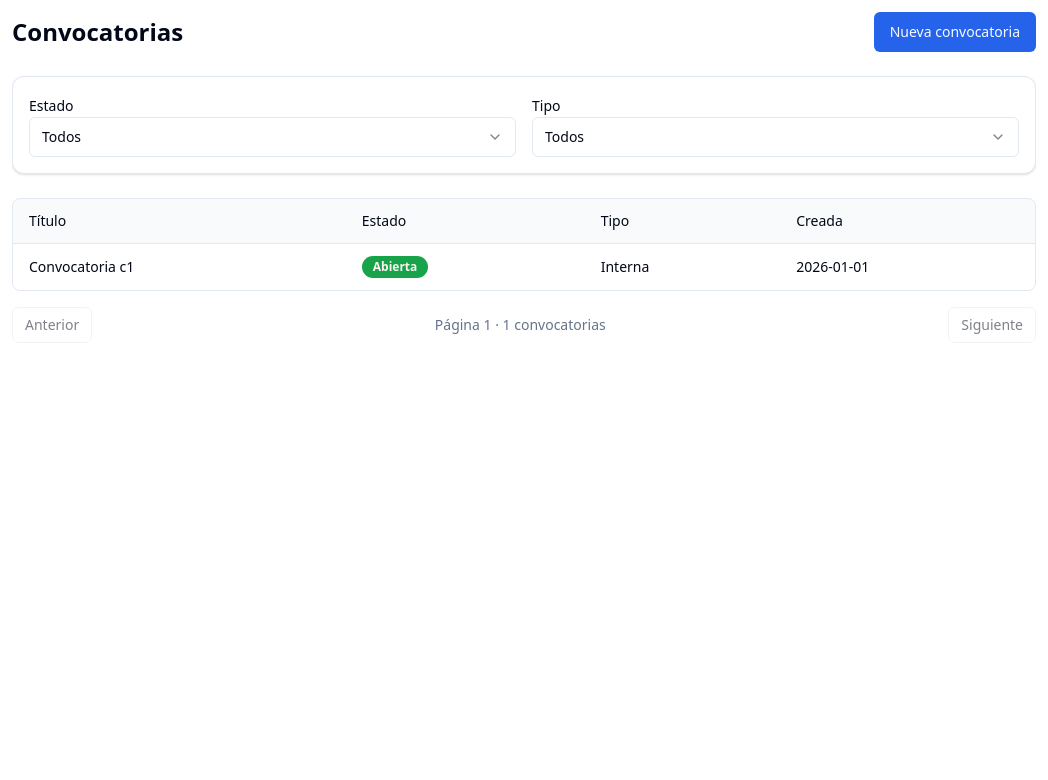
Test: CallList — filter refetch wiring › combines status and call_type filters in a single refetch
Check: the link "Convocatoria c1" is shown, box [29, 257, 134, 276]
What coordinates should you click on to do the following:
click the dropdown named "estado"
I would click on:
 (62, 136)
Its box is [29, 117, 516, 157].
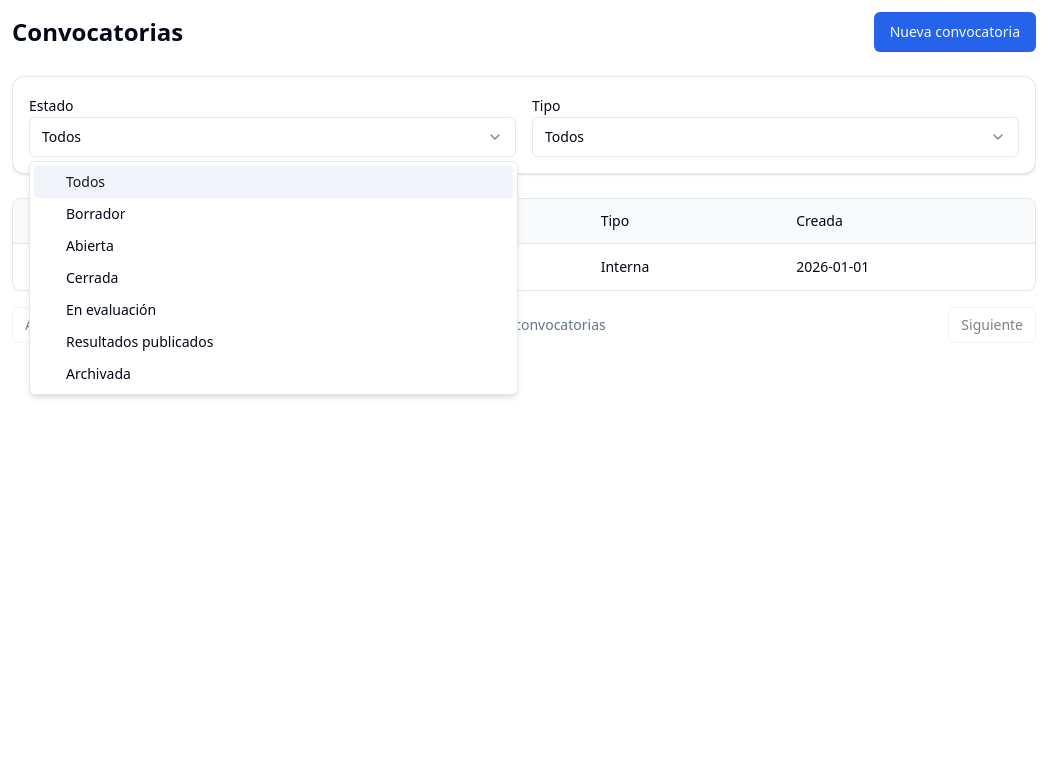
What coordinates should you click on to do the following:
click the option "Abierta"
I would click on:
 (90, 246)
Its box is [66, 236, 114, 255].
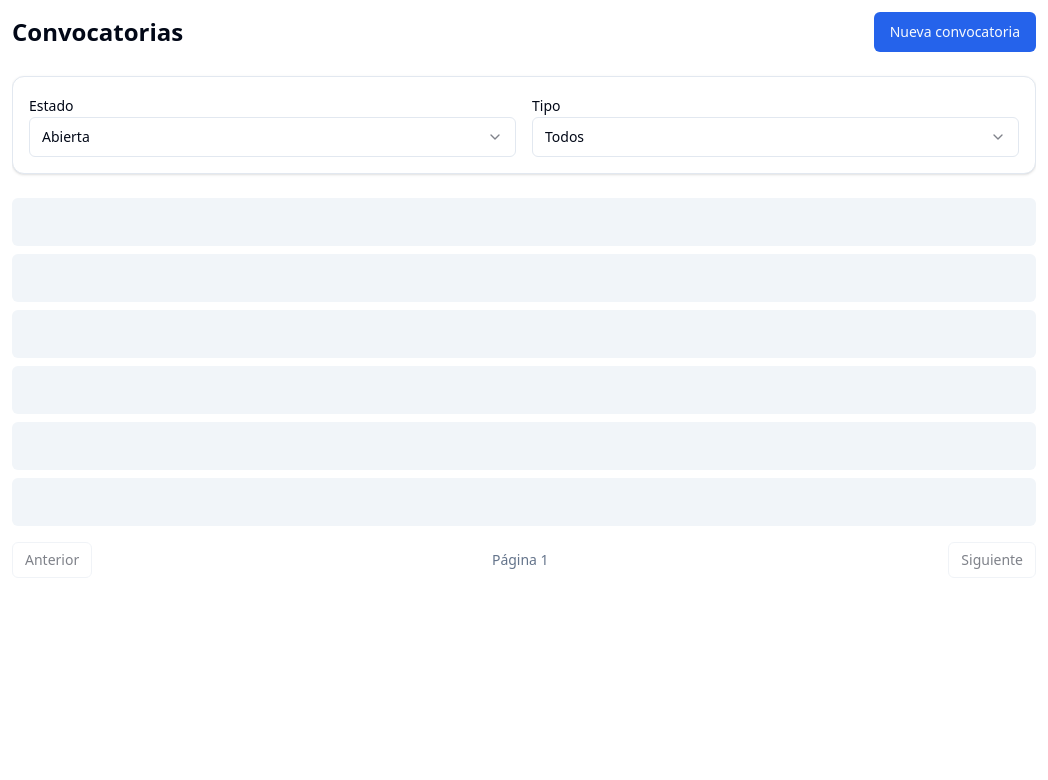
What coordinates should you click on to do the following:
click the dropdown named "tipo"
I would click on:
 (565, 136)
Its box is [532, 117, 1019, 157].
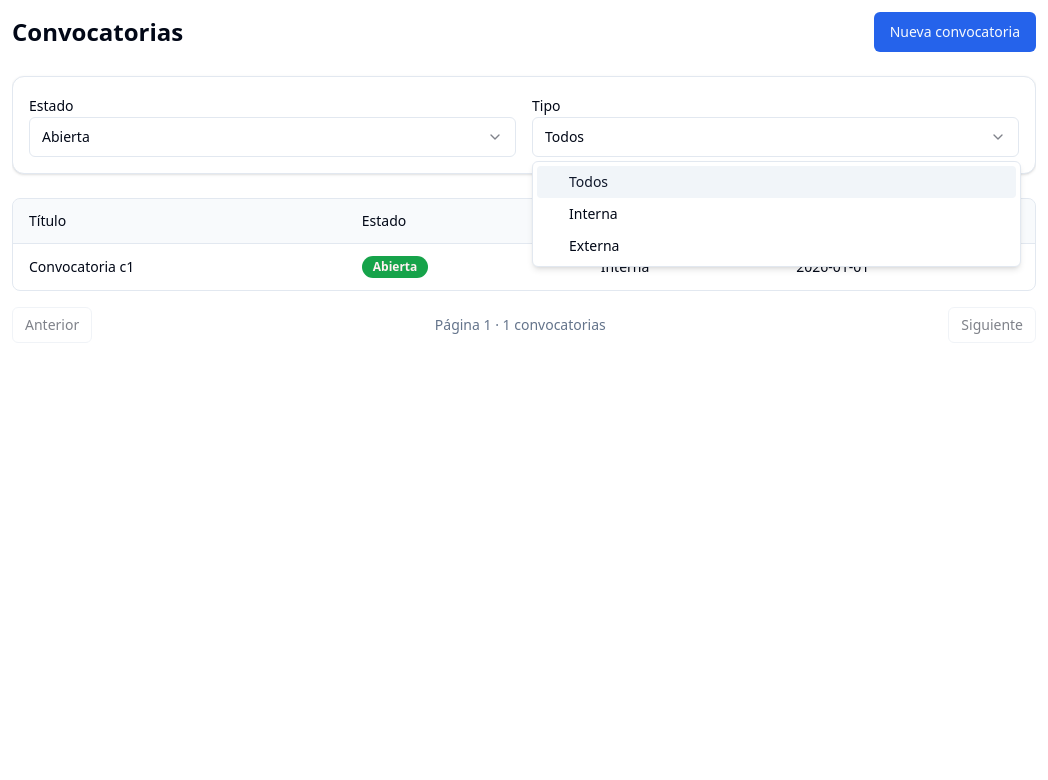
What coordinates should you click on to do the following:
click the option "Externa"
I would click on:
 (594, 246)
Its box is [569, 236, 619, 255].
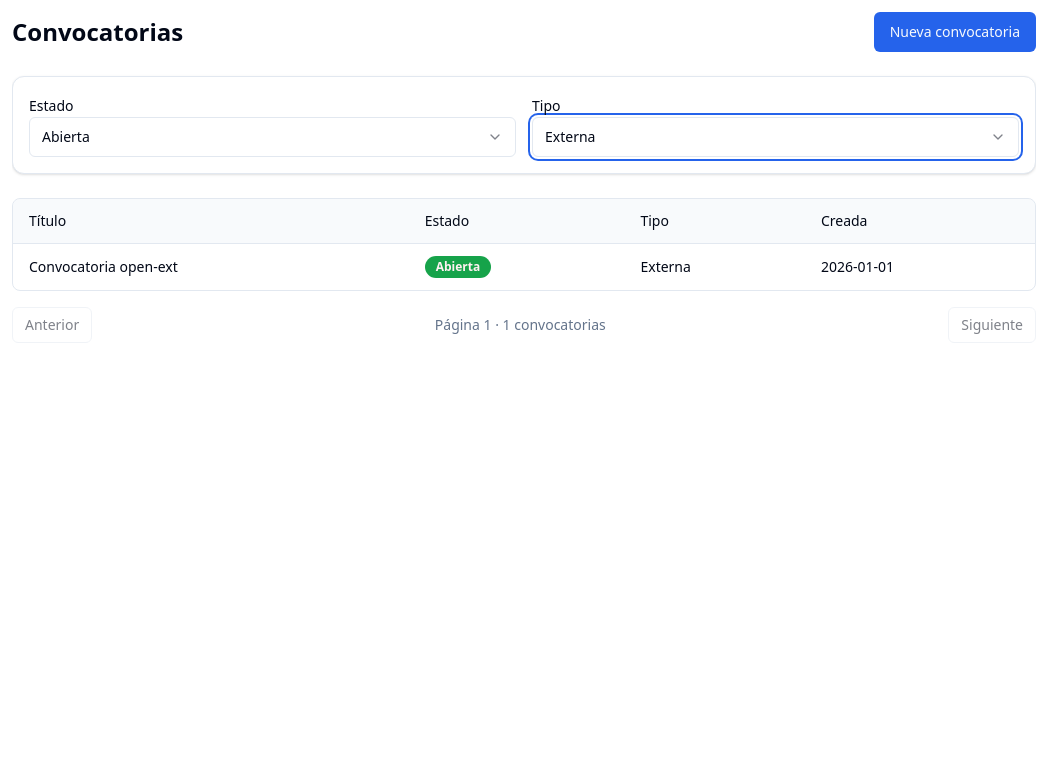
Check: the link "Convocatoria open-ext" is shown, box [29, 257, 178, 276]
